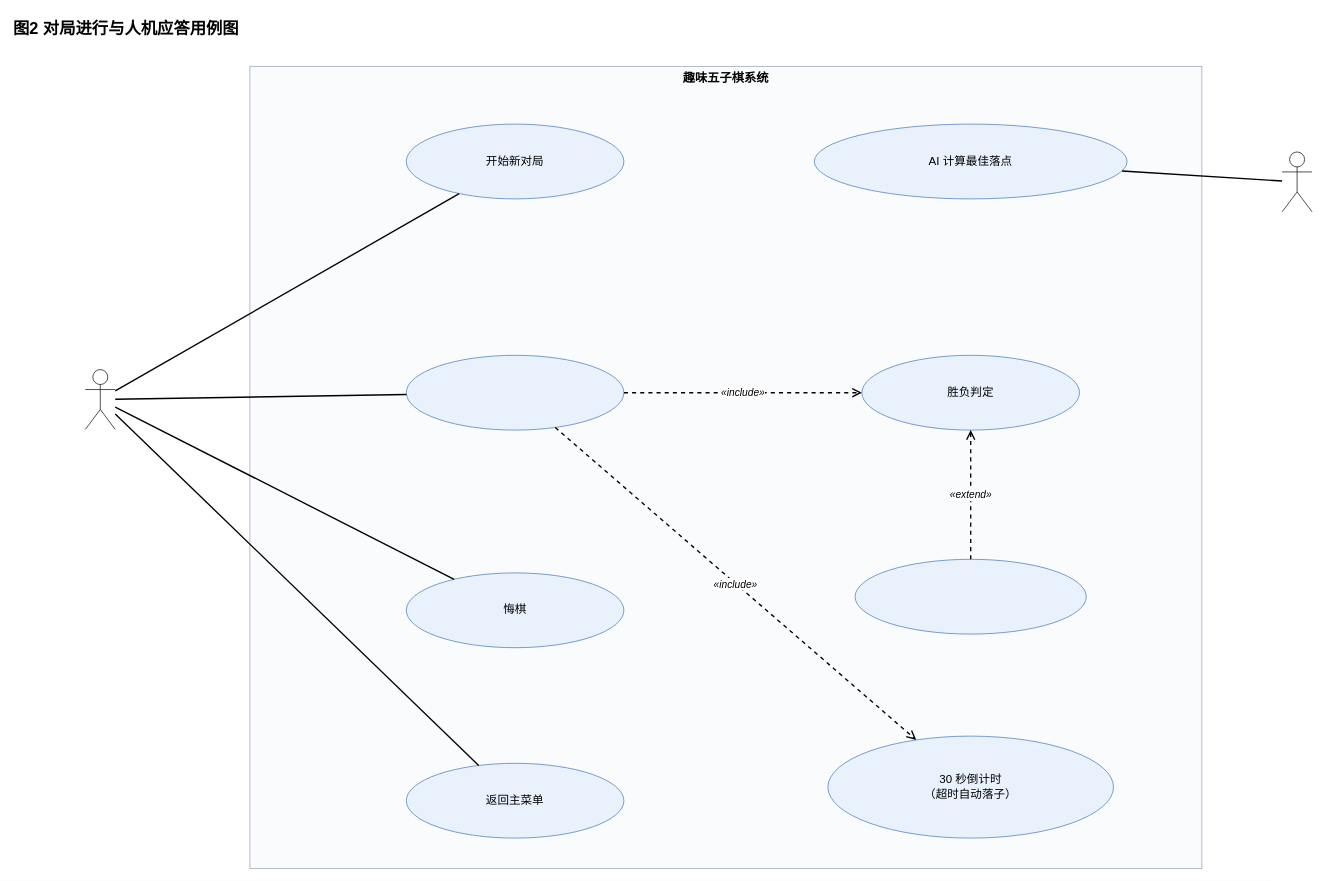
The diagram is 1329 pixels wide and 881 high, and some of its shapes have lost their labels. Here are the shapes that lost their labels. From the top down, the centre of each, then its label:
At point 1296,181: "AI 引擎".
At point 100,399: "玩 家".
At point 515,392: "落子".
At point 970,596: "结算动画展示".
